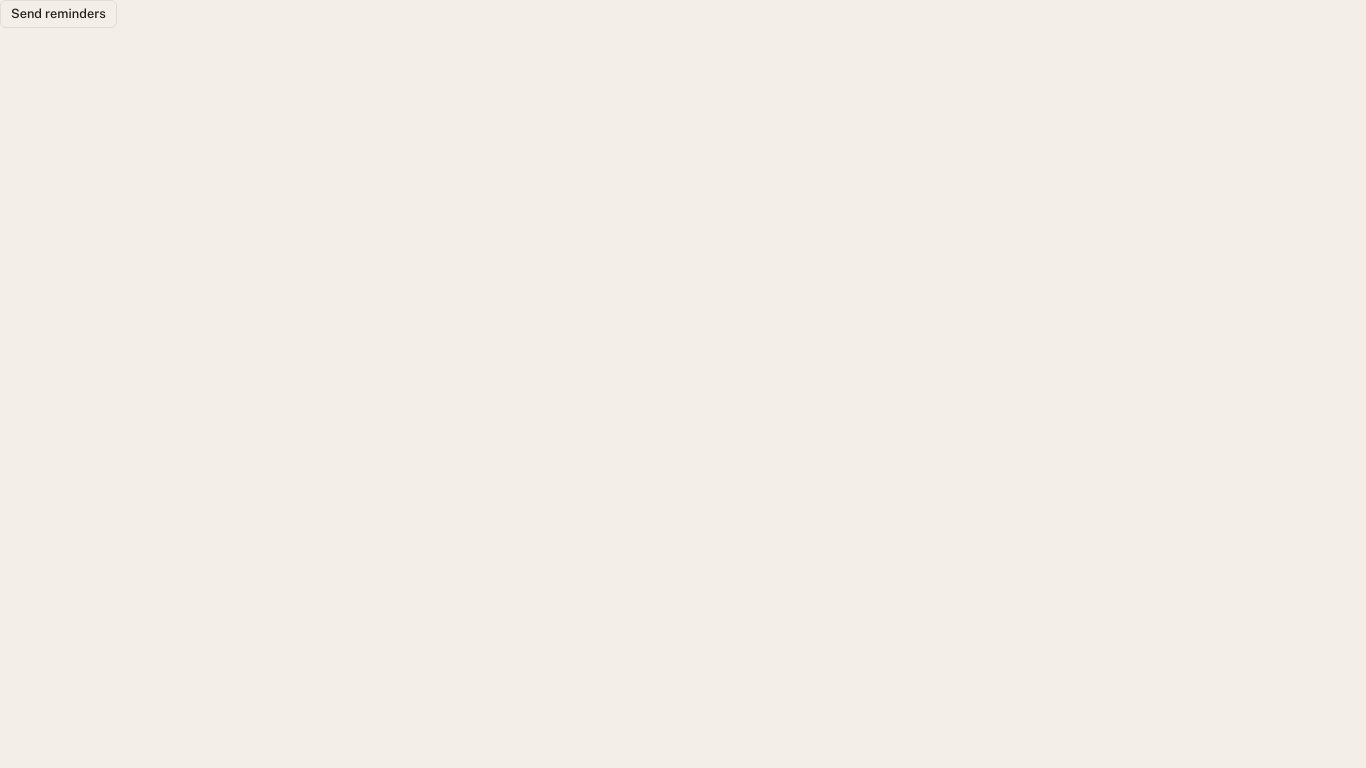
Scenario: SendRemindersDialog › uses singular wording and last-sent date
Click the button "Send reminders" at point(58, 14), box [0,0,117,28]
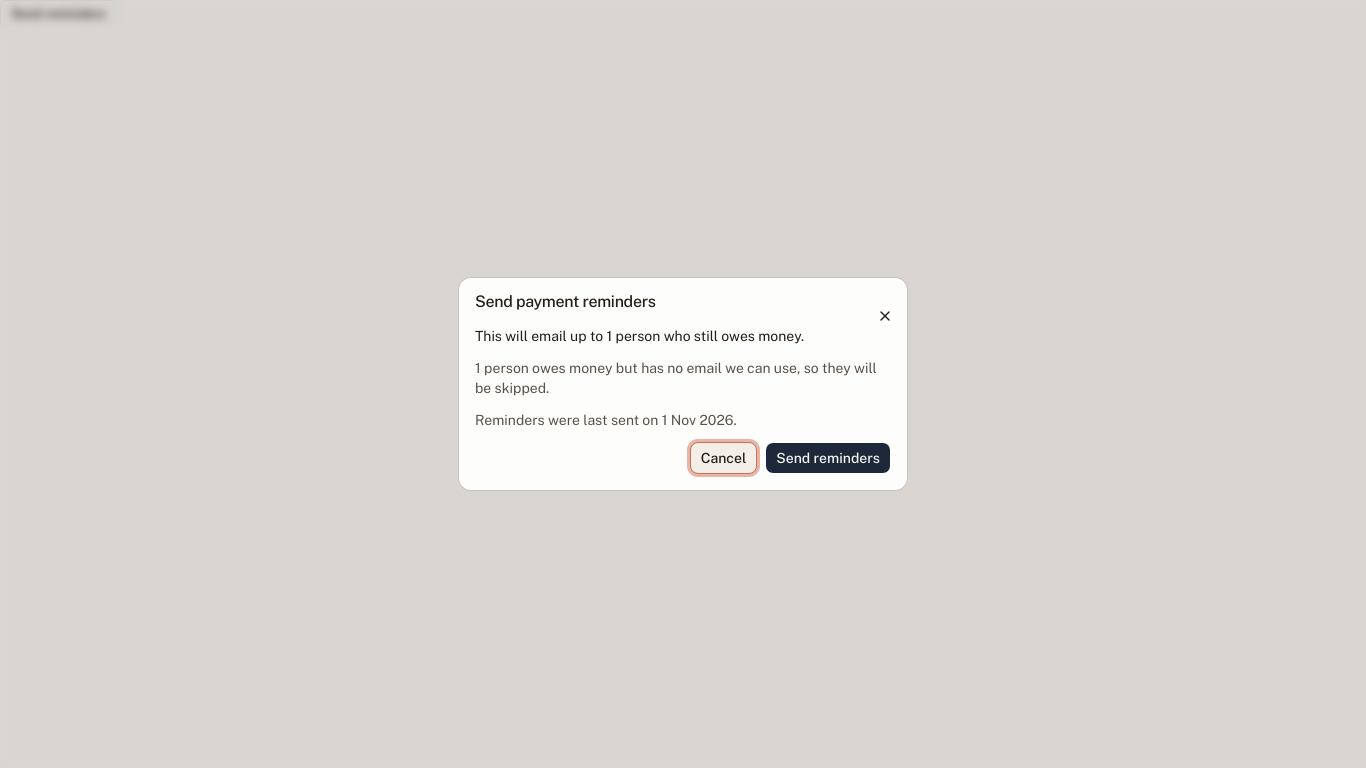
Result: the text "Reminders were last sent on 1 Nov 2026." is shown at [475,412,737,428]
Result: the text "This will email up to 1 person who still owes money." is shown at [475,328,804,344]
Result: the text "1 person owes money but has no email" is shown at [475,358,891,398]
